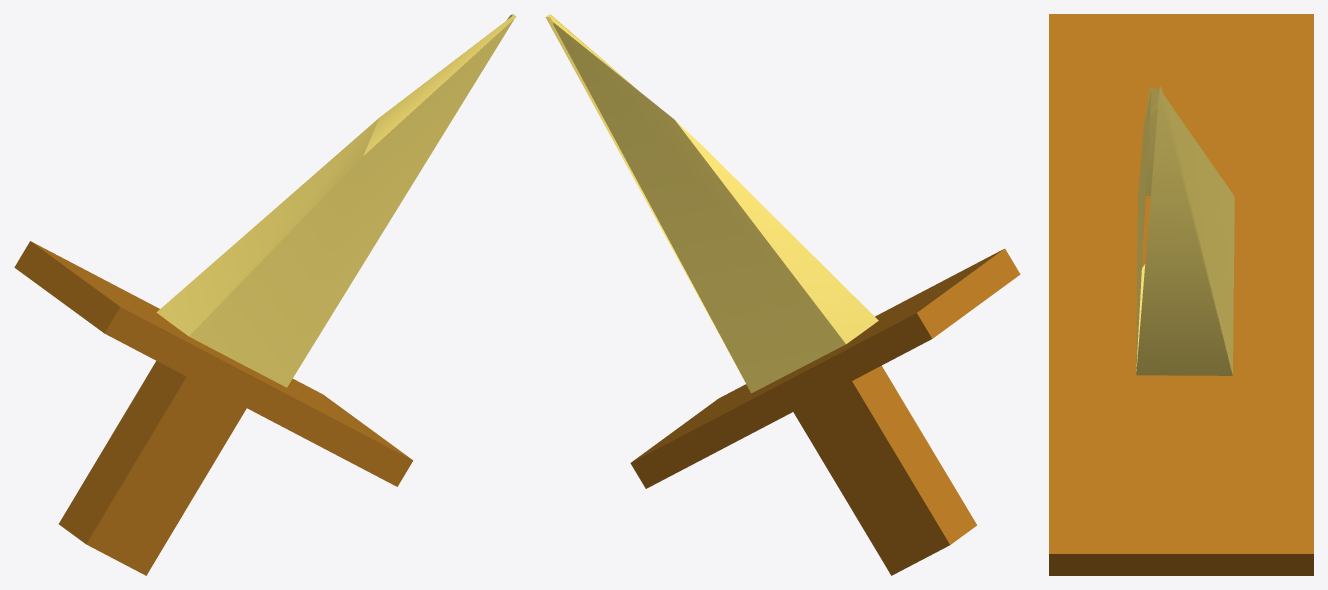
Rendered from Gold Sword.glb.
The picture shows the model from 3 angles, left to right: view 1: azimuth 30°, elevation 25°; view 2: azimuth 150°, elevation 25°; view 3: azimuth 270°, elevation 25°; orthographic projection. The views are drawn at different scales.
Visible parts, largest first — view 1: Cube001_1, Cube001; view 2: Cube001_1, Cube001; view 3: Cube001_1, Cube001.
Boxes of the visible parts, left/top/right/bottom form: Cube001_1: left=14, top=241, right=413, bottom=575; Cube001: left=156, top=14, right=516, bottom=387; Cube001_1: left=630, top=248, right=1020, bottom=575; Cube001: left=545, top=14, right=878, bottom=393; Cube001_1: left=1049, top=14, right=1313, bottom=575; Cube001: left=1136, top=86, right=1234, bottom=375.
Bounding box in the file's own units: 7.39 × 7.35 × 2.58.
